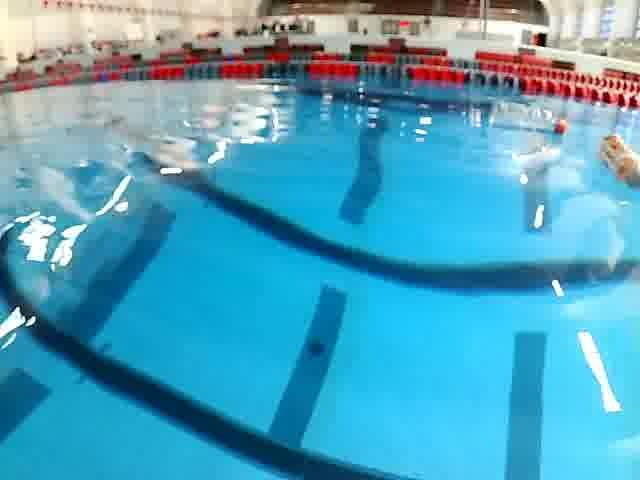Bottle: (485, 96, 572, 140), (592, 127, 640, 197)
